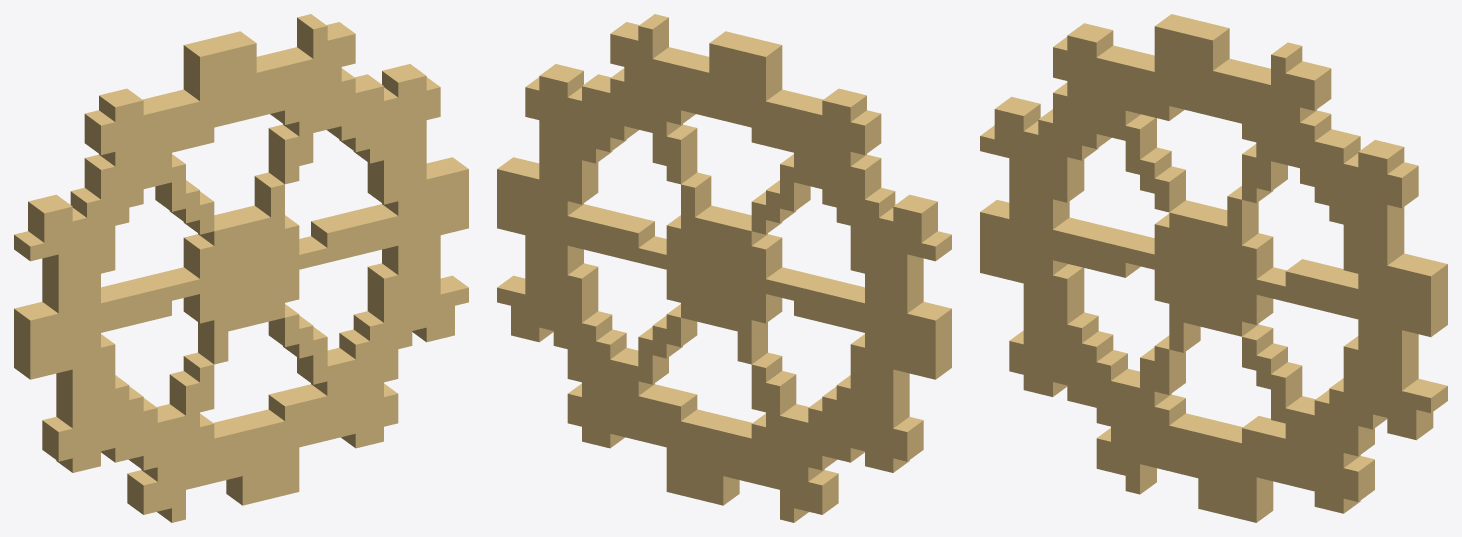
The model's file is aether-cog.glb.
3 renders of one model, left to right at view 1: azimuth 30°, elevation 25°; view 2: azimuth 150°, elevation 25°; view 3: azimuth 330°, elevation 25°, orthographic. The views are drawn at different scales.
Parts seen in each view (by area): view 1: Aether Cog; view 2: Aether Cog; view 3: Aether Cog.
Boxes of the visible parts, x1,y1,x2,y2 form: Aether Cog: (14,14,468,522); Aether Cog: (497,14,951,522); Aether Cog: (980,14,1447,522).
Size of the model in its own units: 6.82 by 6.82 by 0.4402.
